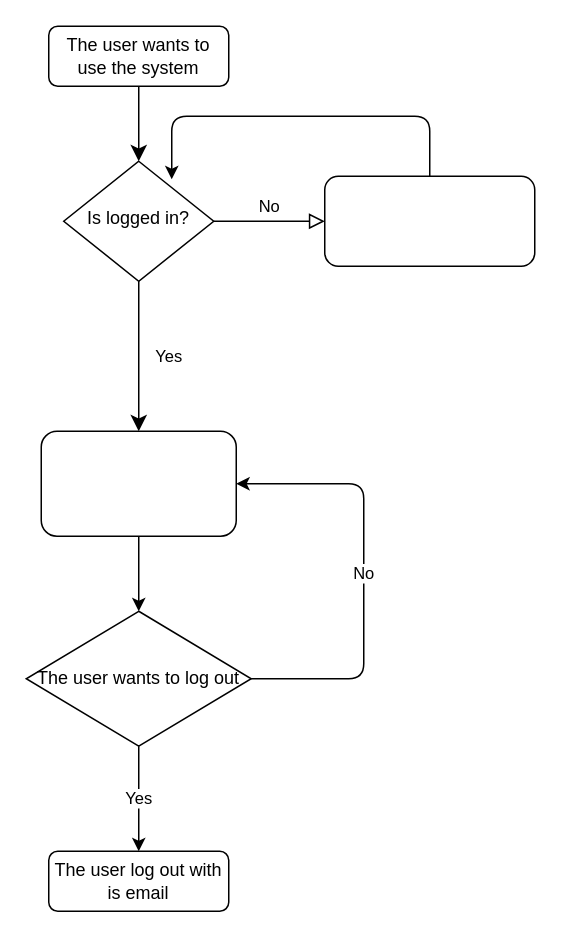
This 561x938 diagram has some shape labels left out. Each missing label, with the centre of its shape:
"The user can create, view, update and delete new users, and phones" belongs at pixel 138 483.
"The user needs to log in with his email and his password" belongs at pixel 429 220.
